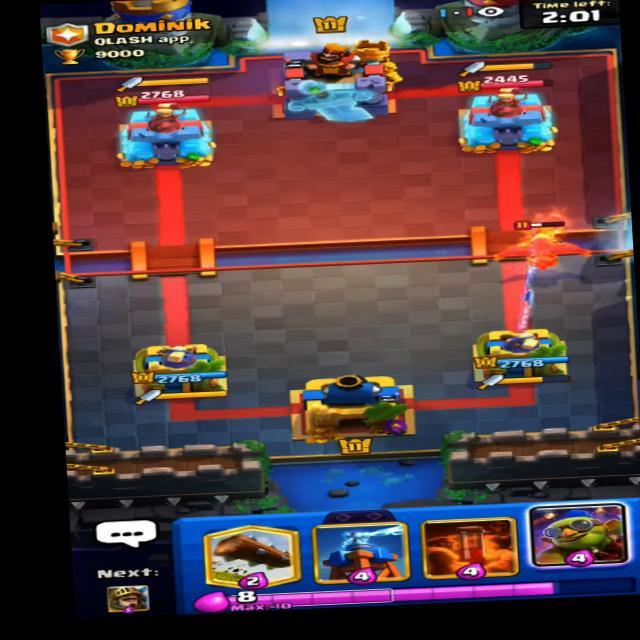phoenix: (476, 215, 609, 273)
